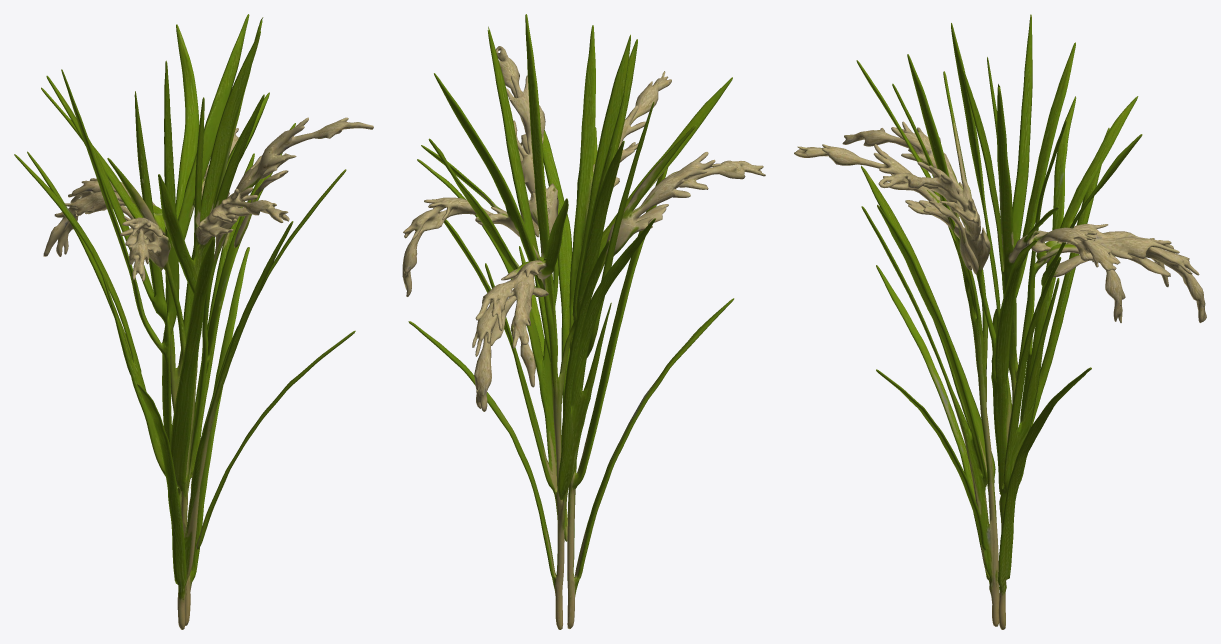
The model's file is tripo_node_6eb0a638.fbx.
The picture shows the model from 3 angles, left to right: view 1: azimuth 30°, elevation 25°; view 2: azimuth 150°, elevation 25°; view 3: azimuth 270°, elevation 25°; orthographic projection.
Parts seen in each view (by area): view 1: tripo_node_6eb0a638; view 2: tripo_node_6eb0a638; view 3: tripo_node_6eb0a638.
Part boxes in pixels (left/top/right/bottom): tripo_node_6eb0a638: left=14, top=14, right=373, bottom=629; tripo_node_6eb0a638: left=402, top=14, right=765, bottom=629; tripo_node_6eb0a638: left=794, top=14, right=1206, bottom=629.
Size of the model in its own units: 0.4584 by 0.6361 by 0.9965.
